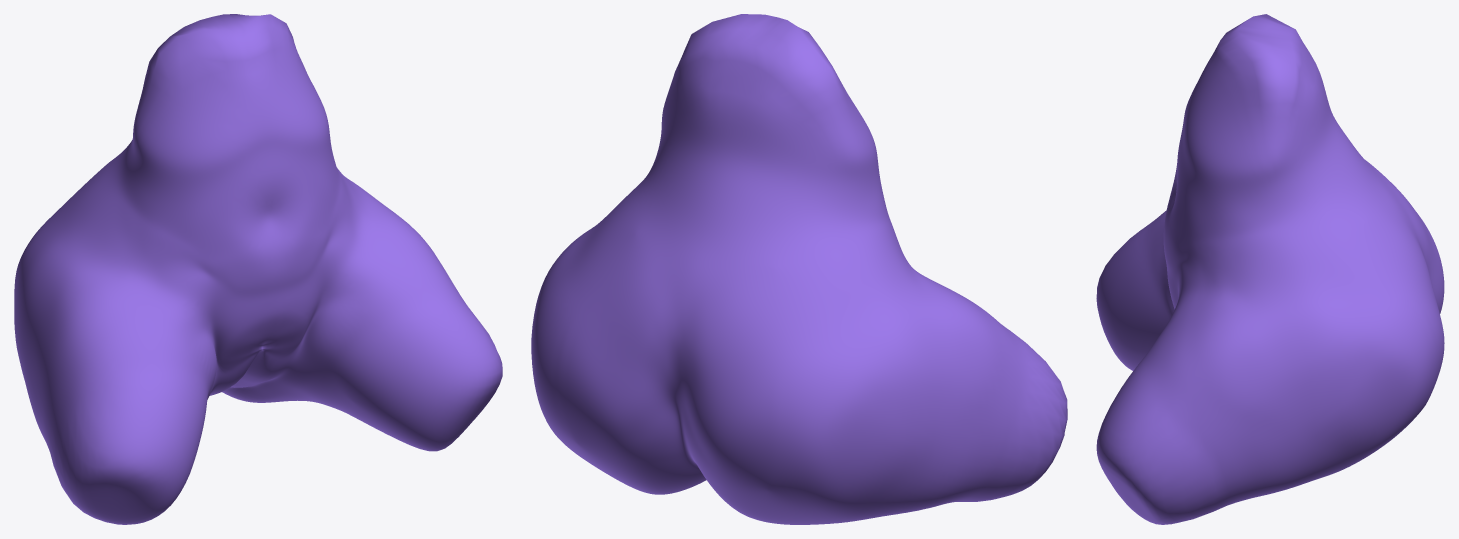
The model's file is asset.glb.
3 views of the same model, side by side, from view 1: azimuth 30°, elevation 25°; view 2: azimuth 150°, elevation 25°; view 3: azimuth 270°, elevation 25° (orthographic). The views are drawn at different scales.
Visible parts, largest first — view 1: Quad Sphere; view 2: Quad Sphere; view 3: Quad Sphere.
Part boxes in pixels (x1,y1,x2,y2): Quad Sphere: (14,14,502,524); Quad Sphere: (531,14,1067,524); Quad Sphere: (1096,14,1444,524).
Bounding box in the file's own units: 4.76 × 4.53 × 3.43.
